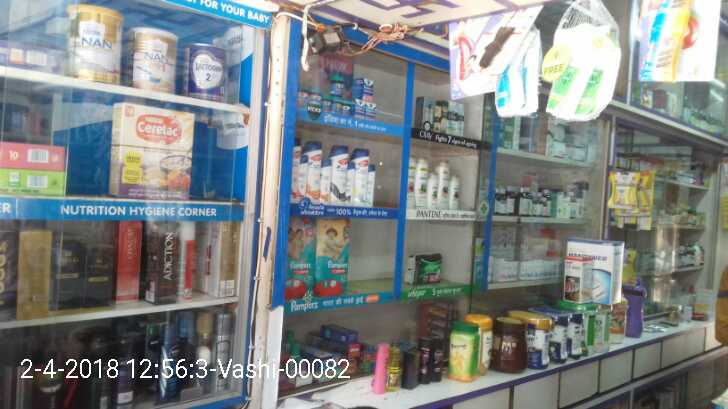vicks: (353, 78, 375, 97), (352, 98, 365, 119), (329, 74, 341, 95), (365, 102, 377, 119), (311, 88, 323, 104), (333, 98, 343, 116), (322, 97, 332, 110), (343, 100, 351, 116)
